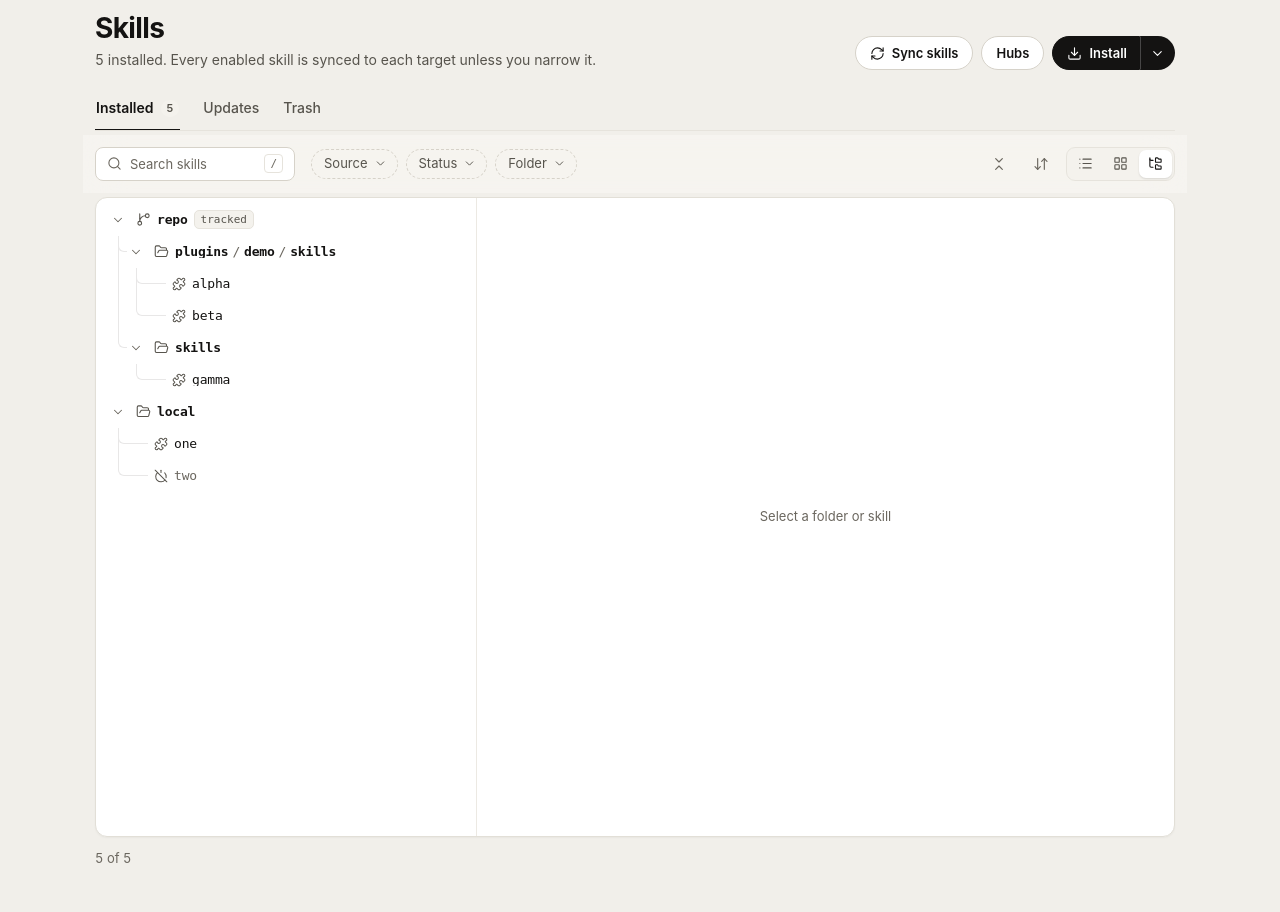
Skills tree view › offers to move a plain folder whole, but not a tracked repo
Right-click the list item "local" at (151, 412), box top-left (106, 400), bottom-right (195, 424)
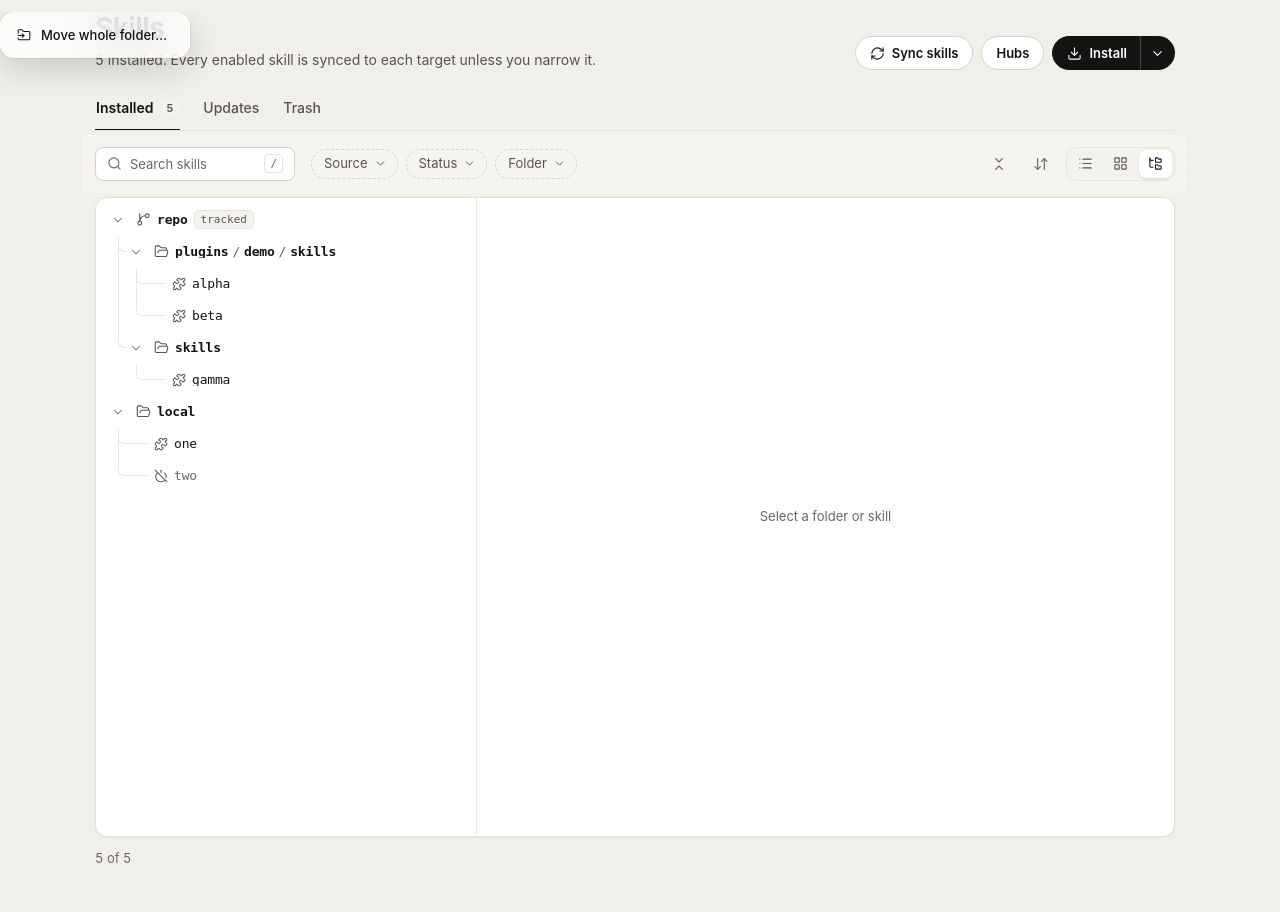
Now the menu item "Move whole folder…" is shown, box top-left (7, 19), bottom-right (183, 51)
Press Escape
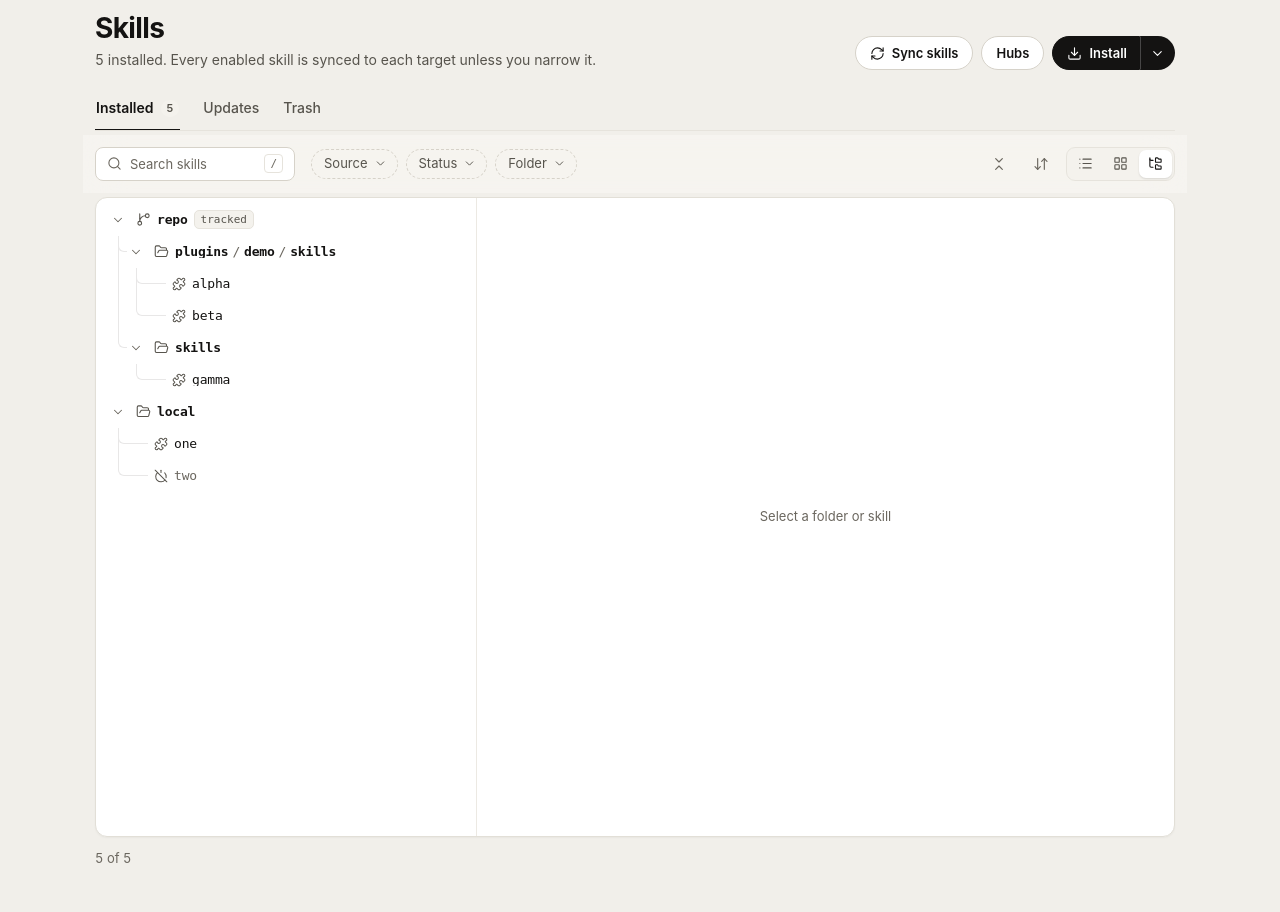
Right-click the list item "repo tracked" at (180, 220), box top-left (106, 208), bottom-right (254, 232)
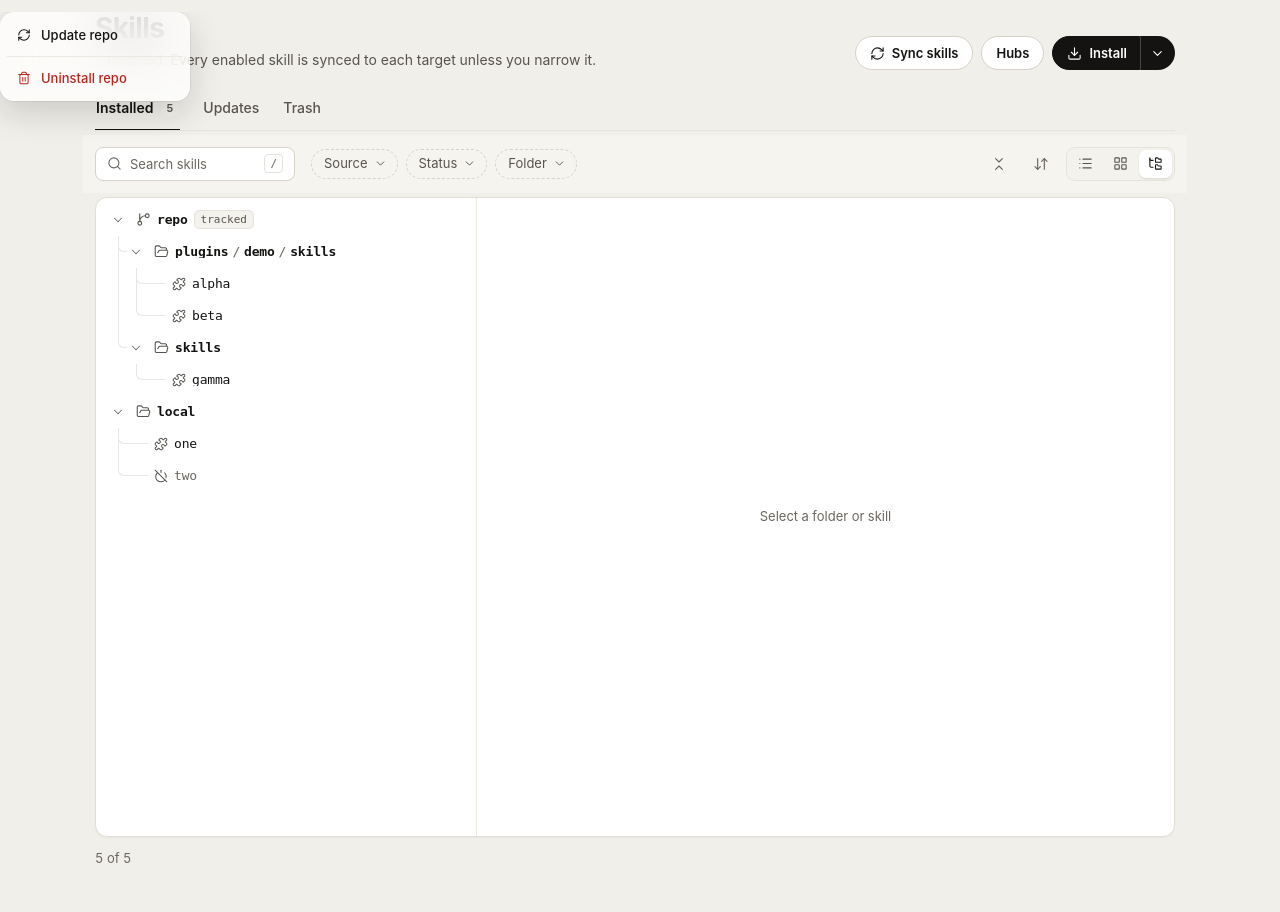
Expected: the menu item "Move whole folder…" is not shown
Now the menu item "Update repo" is shown, box top-left (7, 19), bottom-right (183, 51)
